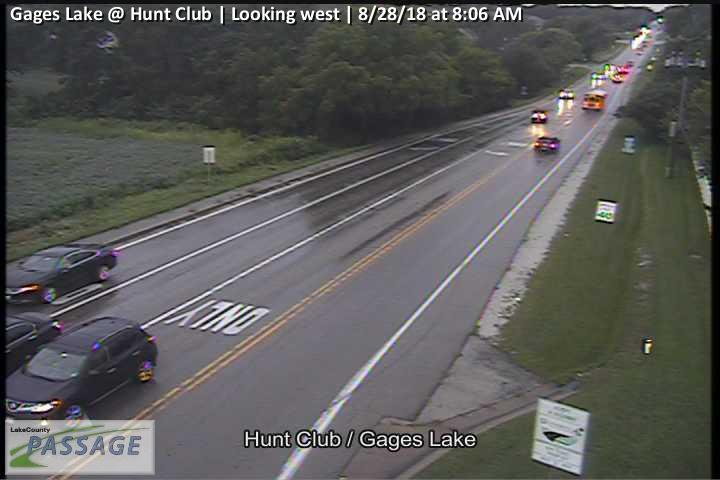SUV: (1, 317, 156, 426), (535, 136, 561, 152), (531, 110, 548, 122)
Sedan: (5, 242, 117, 302), (1, 311, 63, 386)
Truck: (583, 90, 608, 111)
